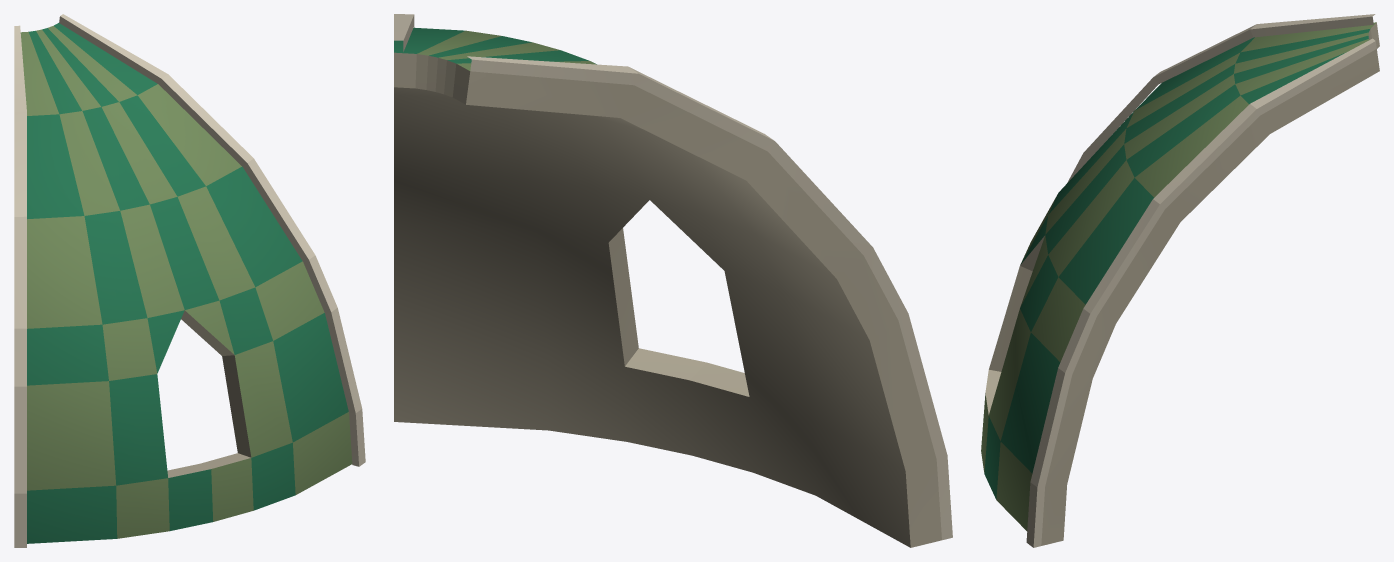
File: dome.panel_6_window.green.glb
3 views of the same model, side by side, from view 1: azimuth 30°, elevation 25°; view 2: azimuth 150°, elevation 25°; view 3: azimuth 270°, elevation 25° (orthographic). The views are drawn at different scales.
Parts seen in each view (by area): view 1: dome_panel_6_window_green; view 2: dome_panel_6_window_green; view 3: dome_panel_6_window_green.
Boxes of the visible parts, bbox=[...] form: dome_panel_6_window_green: bbox=[14, 14, 365, 547]; dome_panel_6_window_green: bbox=[394, 14, 952, 547]; dome_panel_6_window_green: bbox=[981, 14, 1379, 547].
Size of what is drawn, in the model's own units: 3.57 by 3.63 by 3.1.
